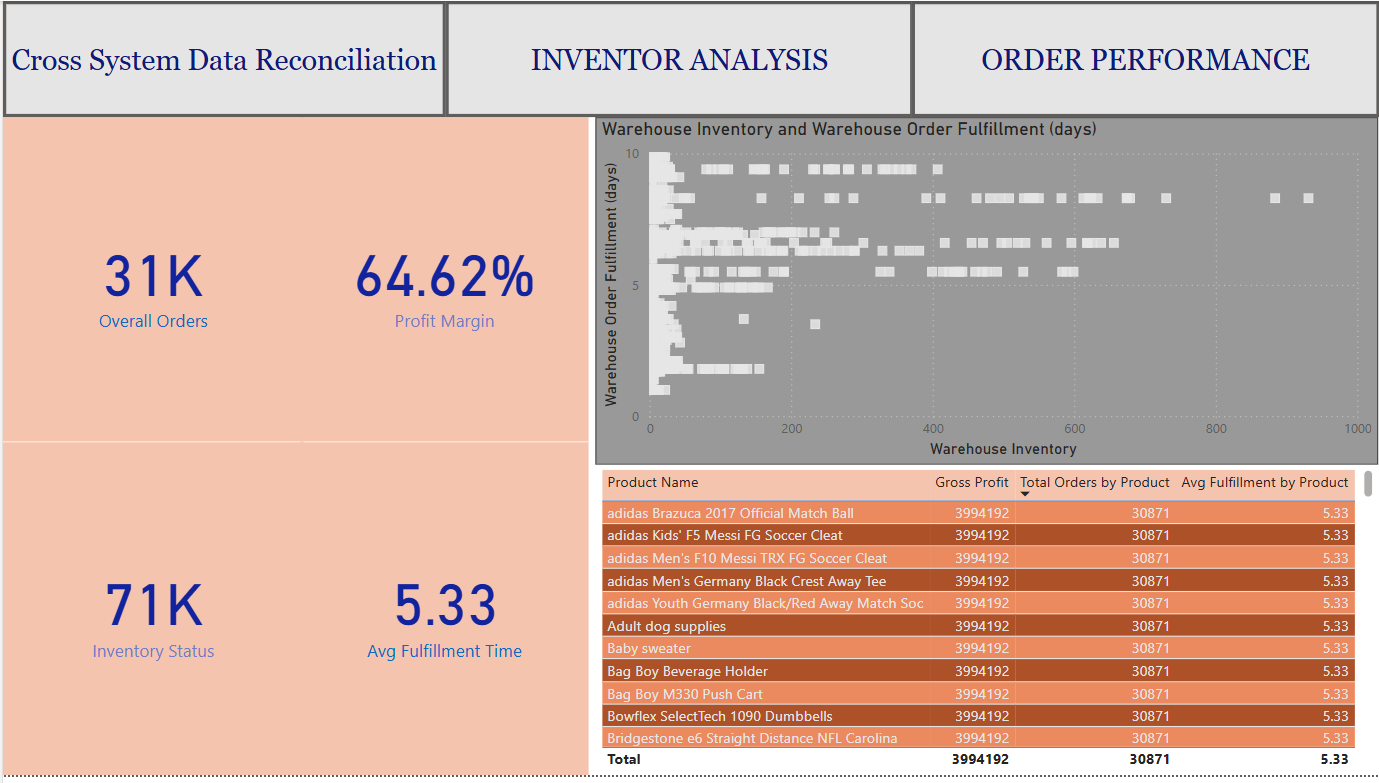

What the dashboard file says about the page in this screenshot:
{"tool":"powerbi","page":{"name":"CROSS SYSTEM DATA RECONCILIATION","canvas":[1280,720],"ordinal":0},"visuals":[{"type":"card","fields":{"Values":["Orders.Overall Orders"]},"box":[0,108.3,280,301.7],"z":0},{"type":"card","fields":{"Values":["Orders.Avg Fulfillment Time"]},"box":[276.7,410,268.3,310],"z":1000},{"type":"card","fields":{"Values":["Orders.Inventory Status"]},"box":[0,410,280,310],"z":2000},{"type":"scatterChart","fields":{"Y":["fulfillment. Warehouse Order Fulfillment (days) "],"X":["inventory. Warehouse Inventory "]},"box":[551.7,108.3,728.3,323.3],"z":3000},{"type":"tableEx","fields":{"Values":["inventory.Product Name","Orders.Gross Profit","Orders.Total Orders by Product","Orders.Avg Fulfillment by Product"]},"box":[551.7,431.7,728.3,288.3],"z":4000},{"type":"card","fields":{"Values":["Orders.Profit Margin"]},"box":[276.7,108.3,268.3,301.7],"z":5000},{"type":"actionButton","box":[0,0,411.7,108.3],"z":6000},{"type":"actionButton","box":[411.7,0,435,108.3],"z":7000},{"type":"actionButton","box":[845,0,435,108.3],"z":7001}]}

Visuals, with their boxes in screenshot pixels (x1, y1, x2, y2), scaled from the page's 1280x720 canvas onto the 1379x783 screenshot:
card - Orders.Overall Orders: <box>0,118,302,446</box>
card - Orders.Avg Fulfillment Time: <box>298,446,587,782</box>
card - Orders.Inventory Status: <box>0,446,302,782</box>
scatterChart - fulfillment. Warehouse Order Fulfillment (days)  x inventory. Warehouse Inventory : <box>594,118,1378,469</box>
tableEx - inventory.Product Name x Orders.Gross Profit: <box>594,469,1378,782</box>
card - Orders.Profit Margin: <box>298,118,587,446</box>
actionButton: <box>0,0,444,118</box>
actionButton: <box>444,0,912,118</box>
actionButton: <box>910,0,1378,118</box>
